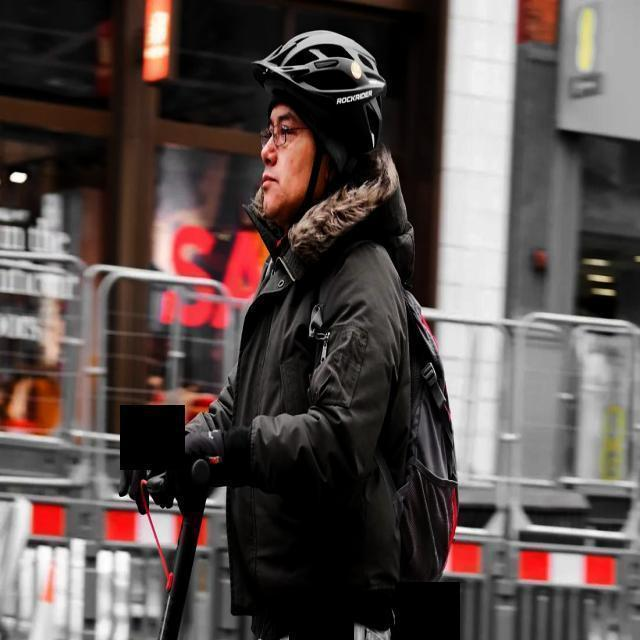helmet: (248, 32, 392, 242)
